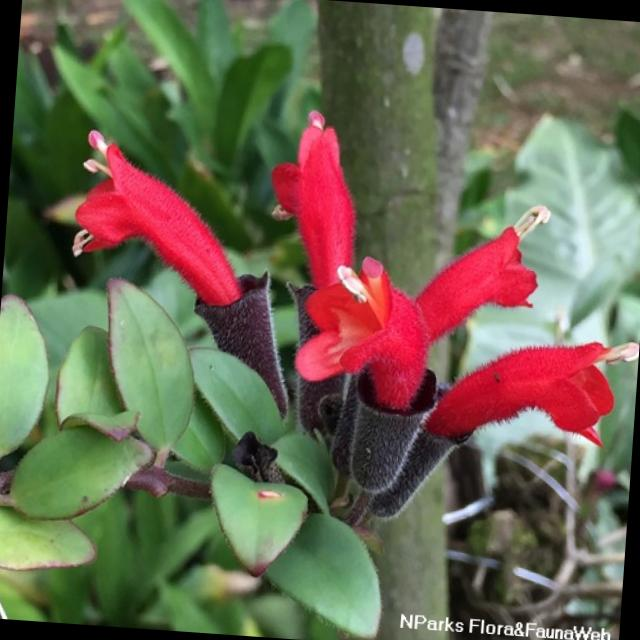Lipstick-Plant: (13, 82, 640, 530)
